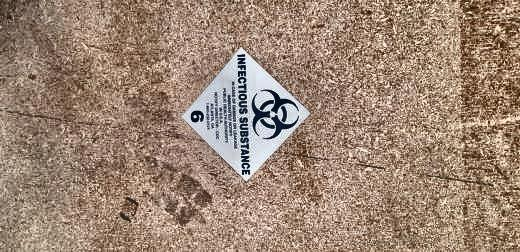infectious-substance: (173, 41, 314, 182)
